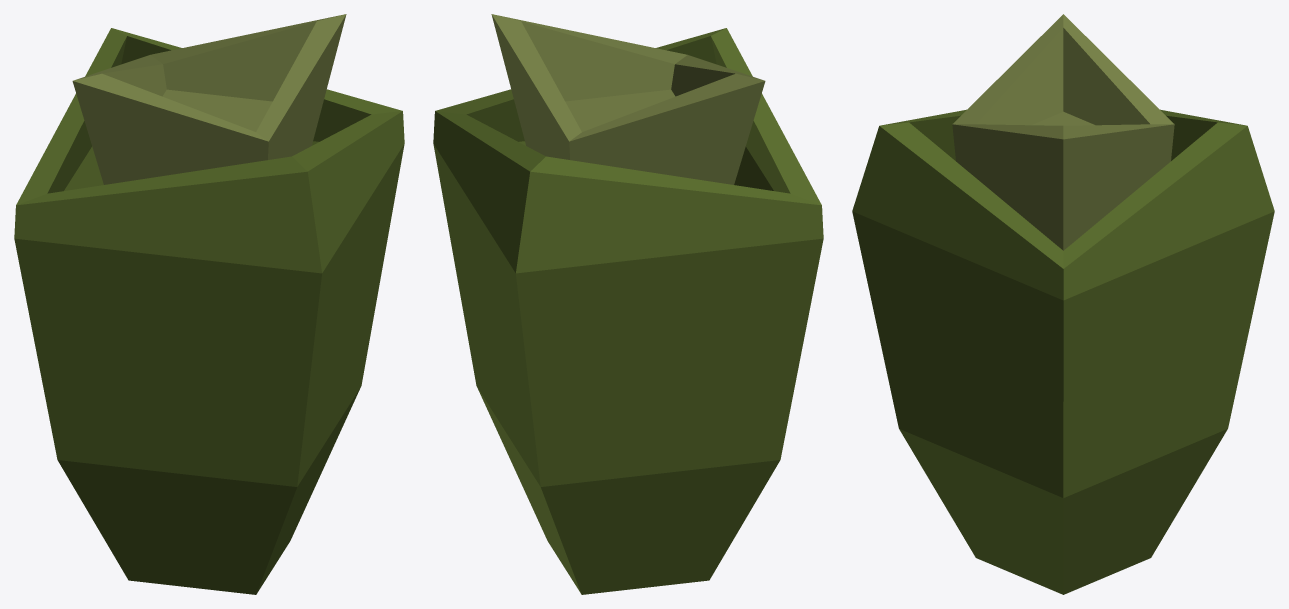
The model's file is Lettuce.fbx.
The picture shows the model from 3 angles, left to right: view 1: azimuth 30°, elevation 25°; view 2: azimuth 150°, elevation 25°; view 3: azimuth 270°, elevation 25°; orthographic projection. The views are drawn at different scales.
Parts seen in each view (by area): view 1: Cube.154; view 2: Cube.154; view 3: Cube.154.
Part boxes in pixels (left/top/right/bottom): Cube.154: left=14, top=14, right=404, bottom=594; Cube.154: left=433, top=14, right=823, bottom=594; Cube.154: left=852, top=14, right=1274, bottom=594.
Bounding box in the file's own units: 386 × 485 × 386.
